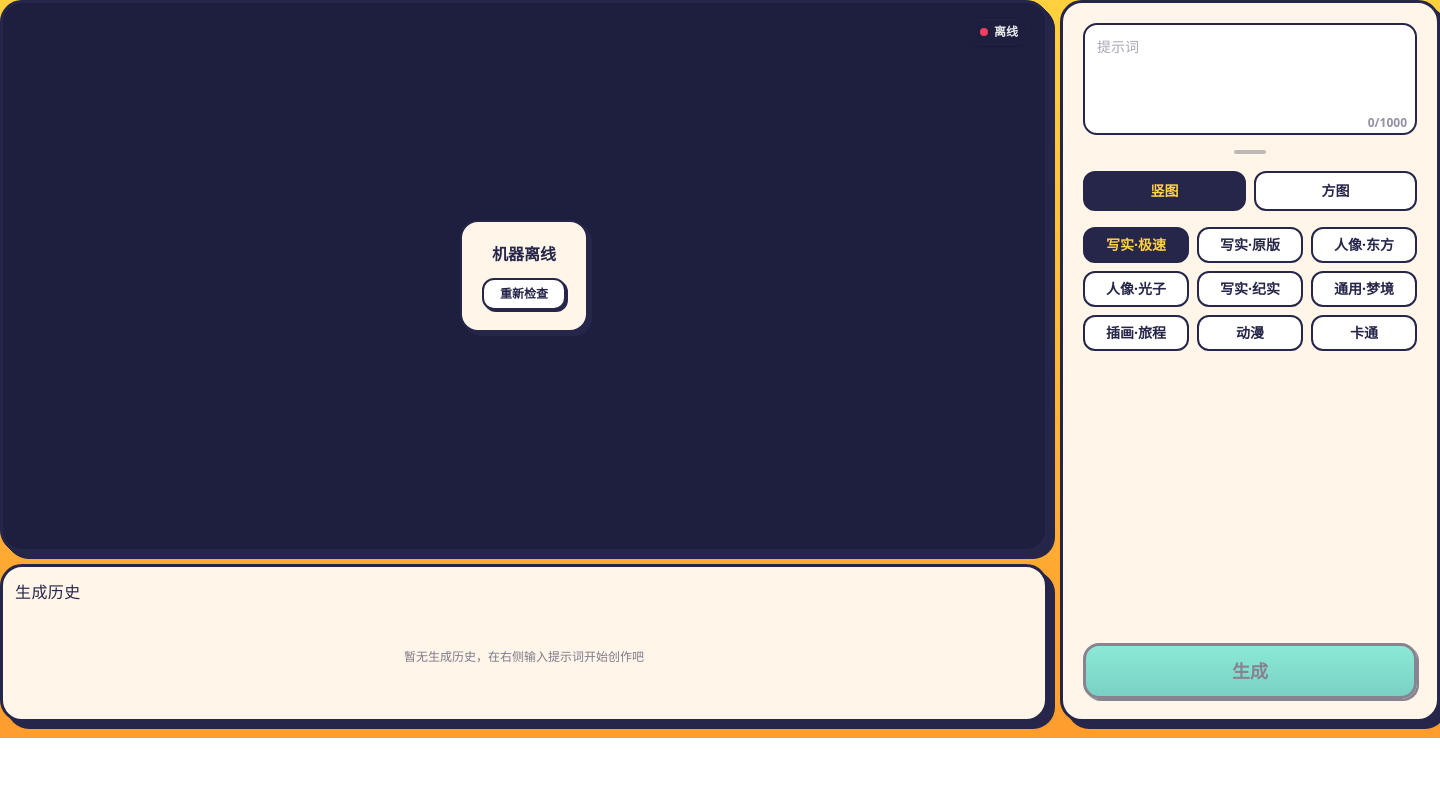
卡通风格生图页（并入 #14 历史区） › 健康检查发现机器离线：明确离线提示、禁用生成按钮、支持重新检查
Expected: the text "机器离线" is shown, [492, 242, 556, 266]
Expected: the button "重新检查" is shown, [482, 278, 566, 310]
Type "test" into the text box with placeholder "提示词" at [1250, 79], box [1083, 23, 1417, 135]
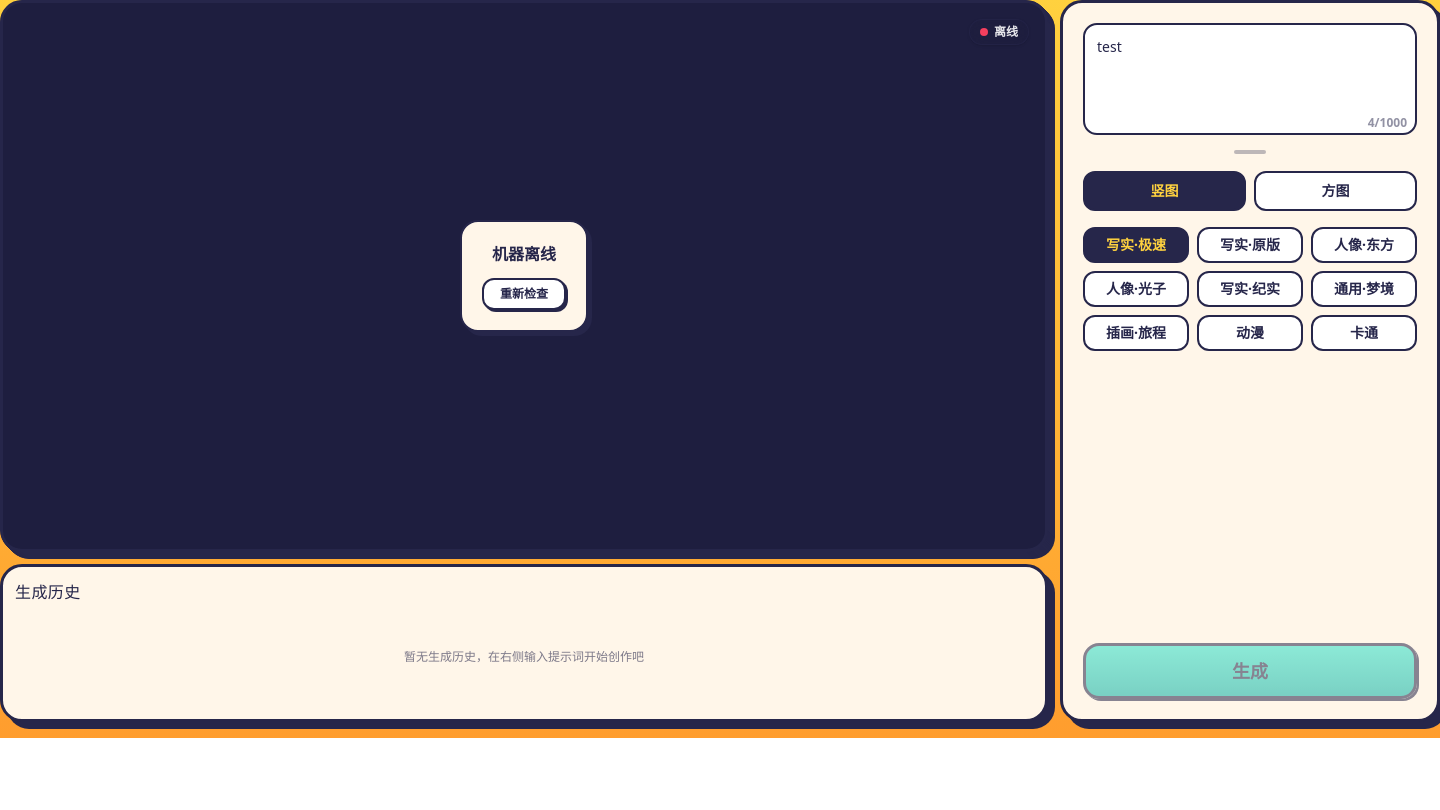
Expected: the button "生成" is disabled, [1083, 643, 1417, 699]
Click the button "重新检查" at [524, 294], box [482, 278, 566, 310]
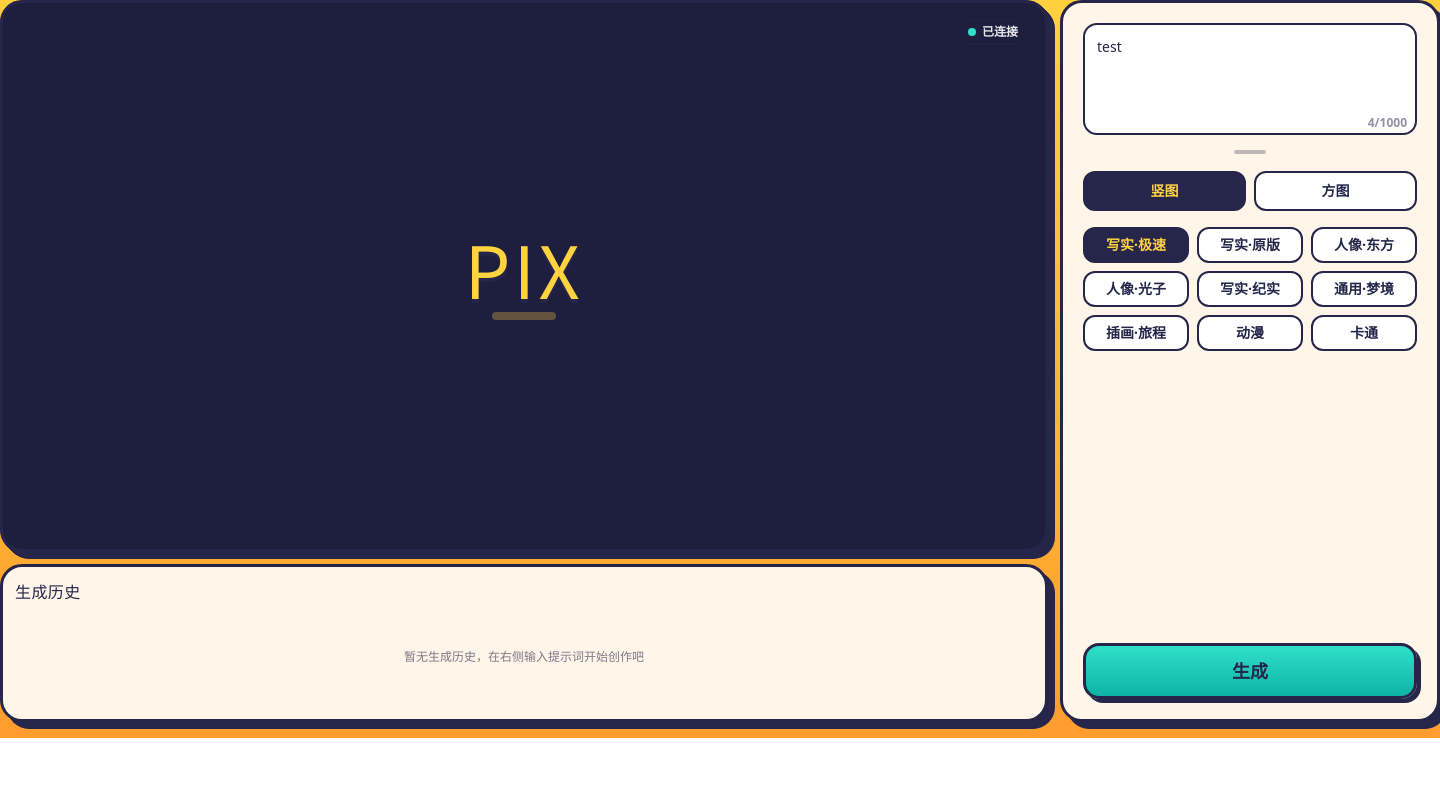
Expected: the text "机器离线" is gone
Expected: the button "生成" is enabled, [1083, 643, 1417, 699]
